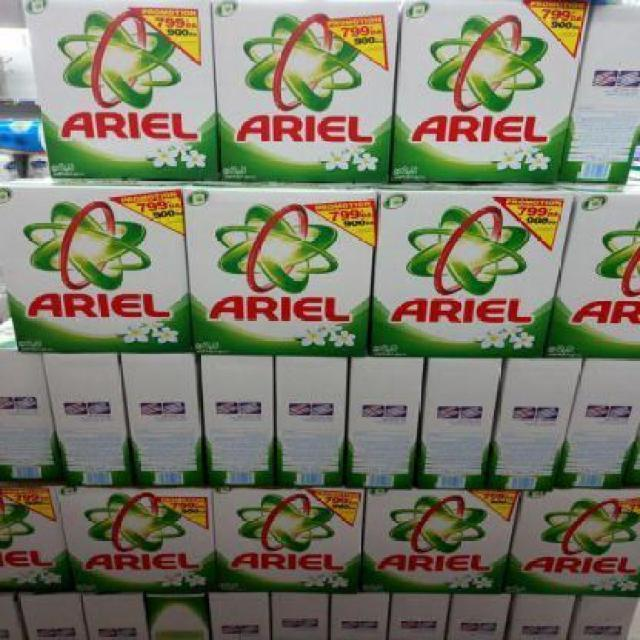Detergent: (26, 0, 218, 186), (391, 0, 591, 178), (211, 0, 391, 186), (371, 183, 552, 360), (188, 192, 377, 354), (6, 186, 188, 352), (206, 478, 364, 595), (70, 486, 216, 600), (362, 489, 513, 595), (510, 485, 639, 596), (556, 189, 639, 354), (0, 486, 66, 595)
